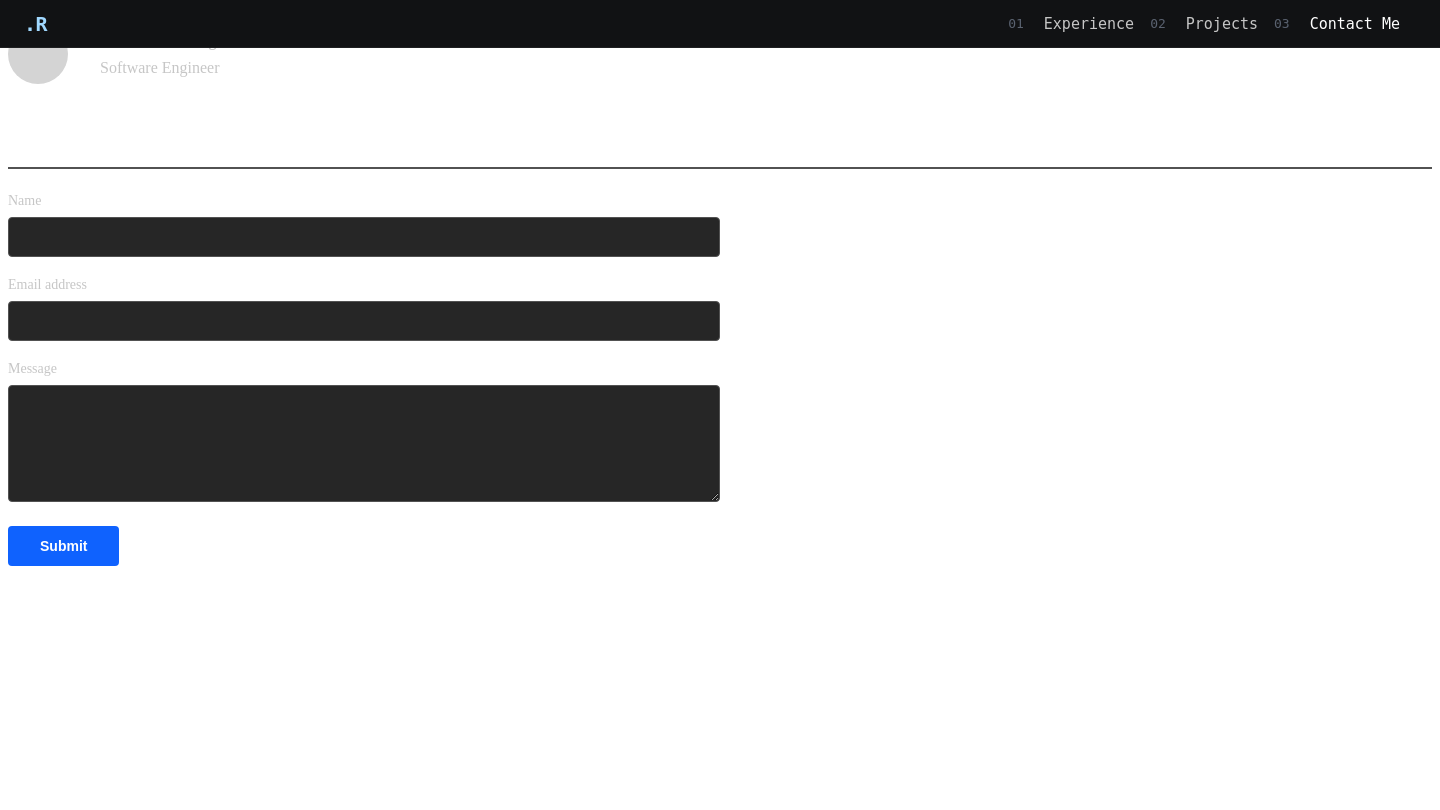
Scenario: submits with correct payload and clears form on success
The image size is (1440, 810).
Type "Alice" into the field labelled "Name" at [364, 237], box [8,217,720,257]
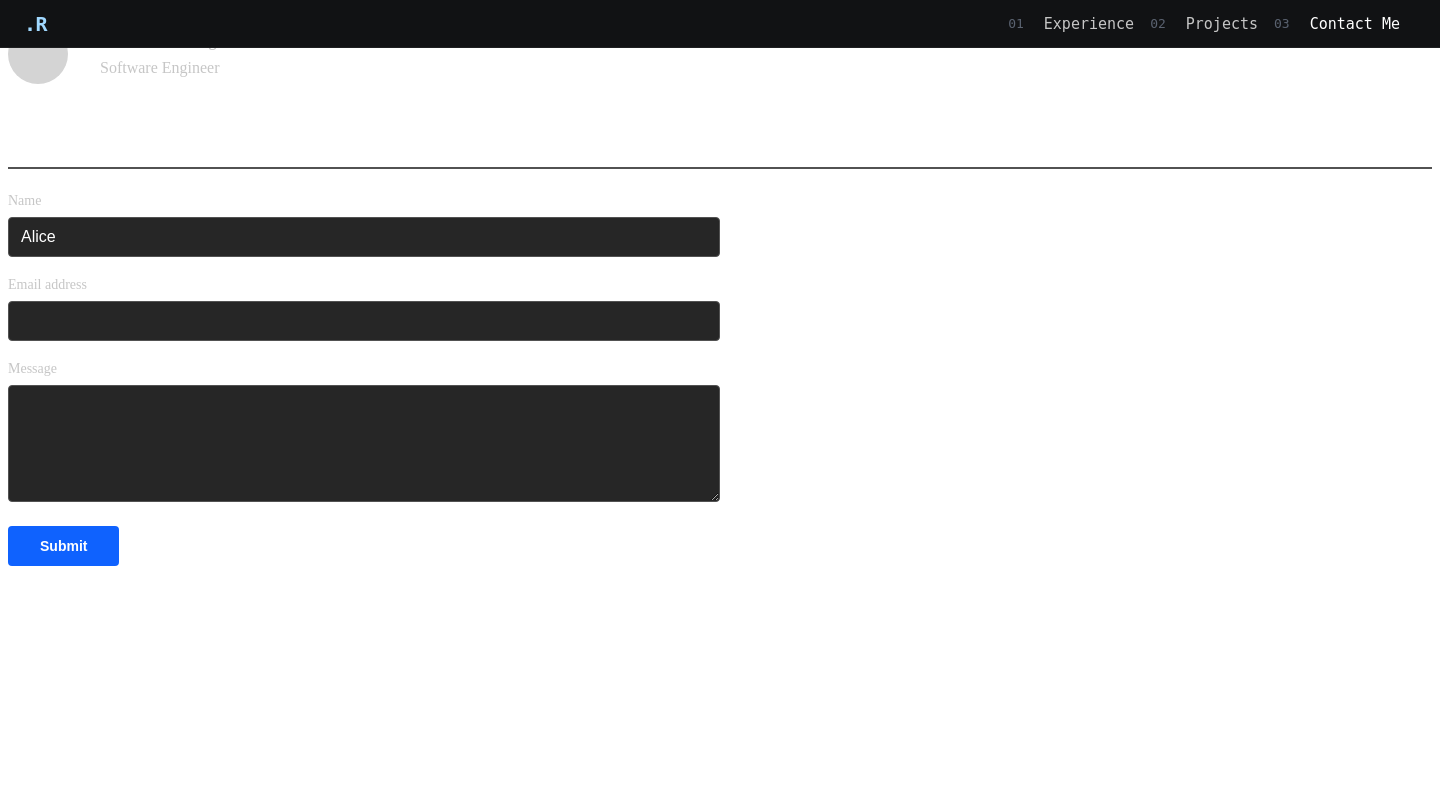
Type "alice@example.com" into the field labelled "Email address" at [364, 321], box [8,301,720,341]
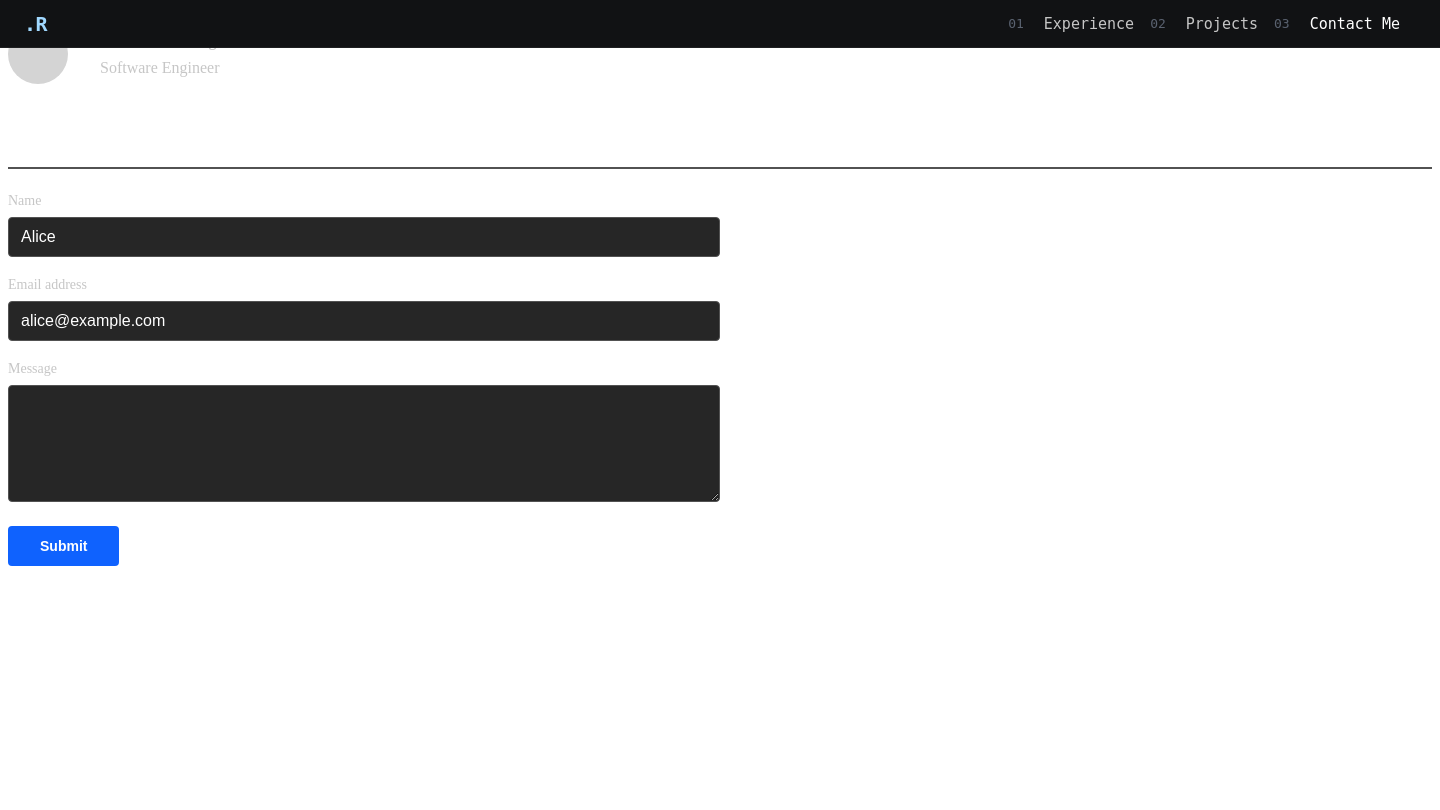
Type "Hello!" into the text box labelled "Message" at [364, 444], box [8,385,720,502]
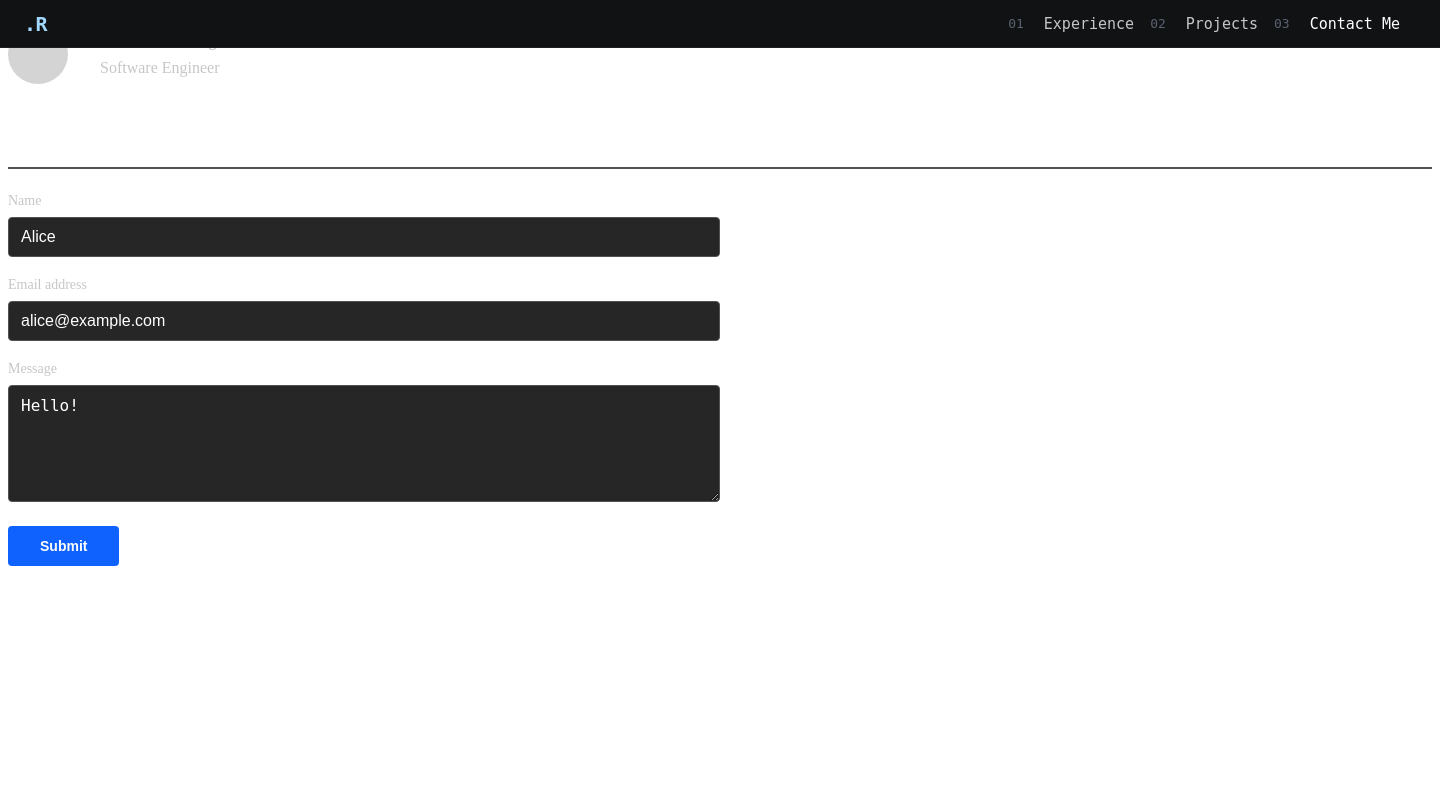
Click the button "Submit" at [64, 546], box [8,526,120,566]
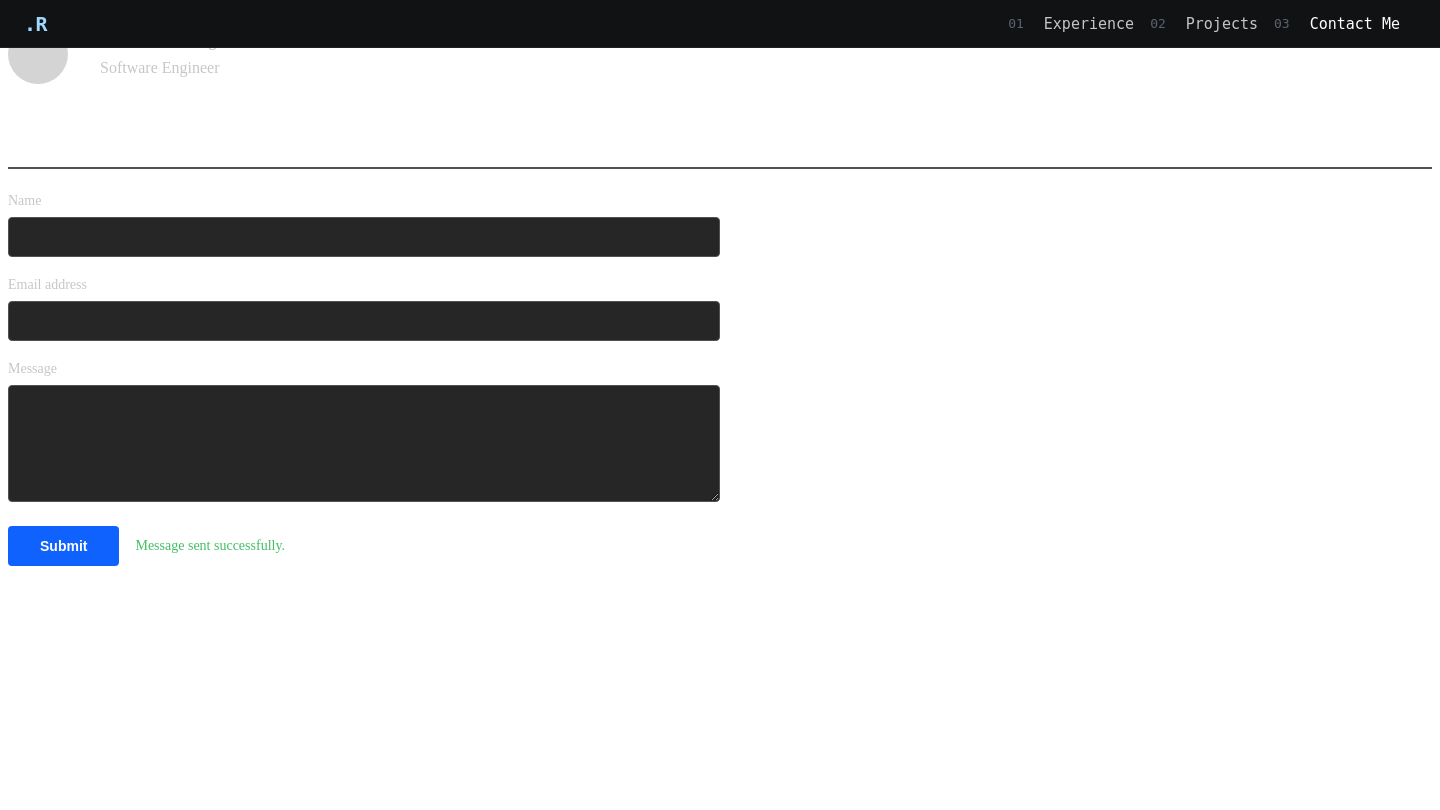
expect the text "Message sent successfully." is shown: met, box [136,534,285,558]
expect the field labelled "Name" is empty: met, box [8,217,720,257]
expect the field labelled "Email address" is empty: met, box [8,301,720,341]
